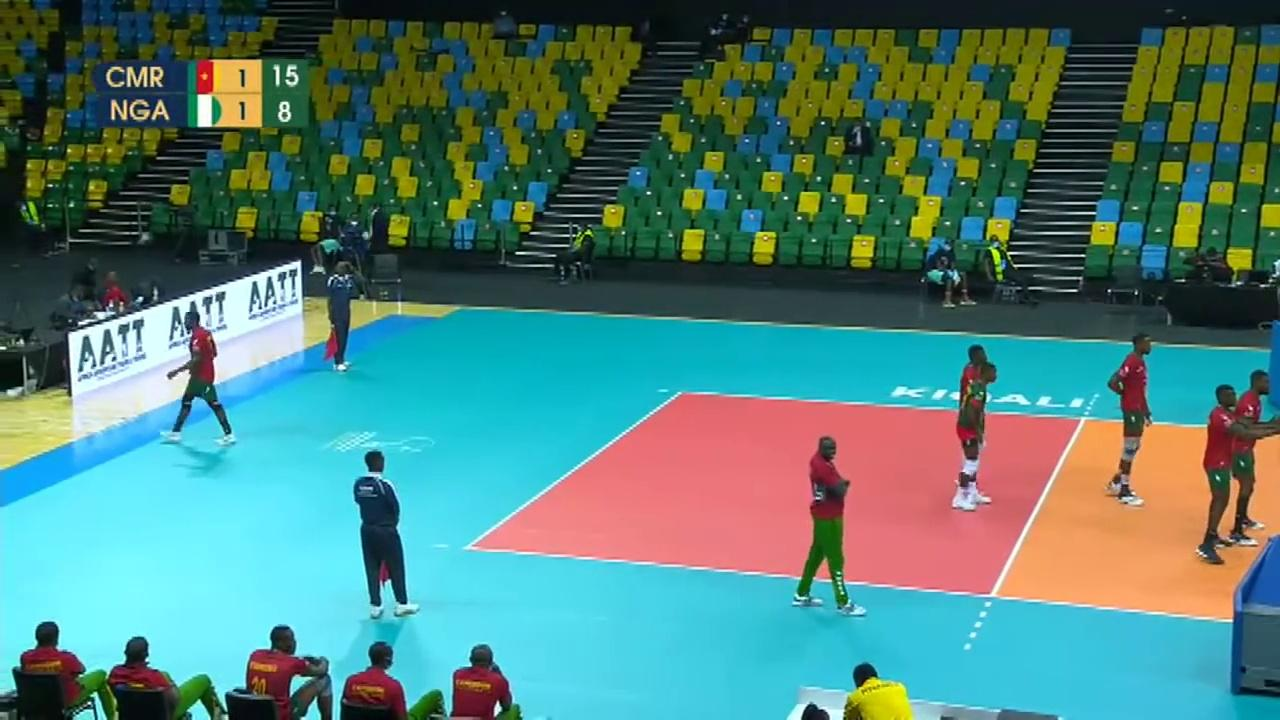player: (1229, 360, 1280, 545), (1198, 379, 1249, 562), (165, 316, 237, 443), (1108, 337, 1158, 500), (954, 361, 999, 511), (959, 346, 994, 491)
refree: (351, 450, 417, 616), (322, 254, 359, 374)
